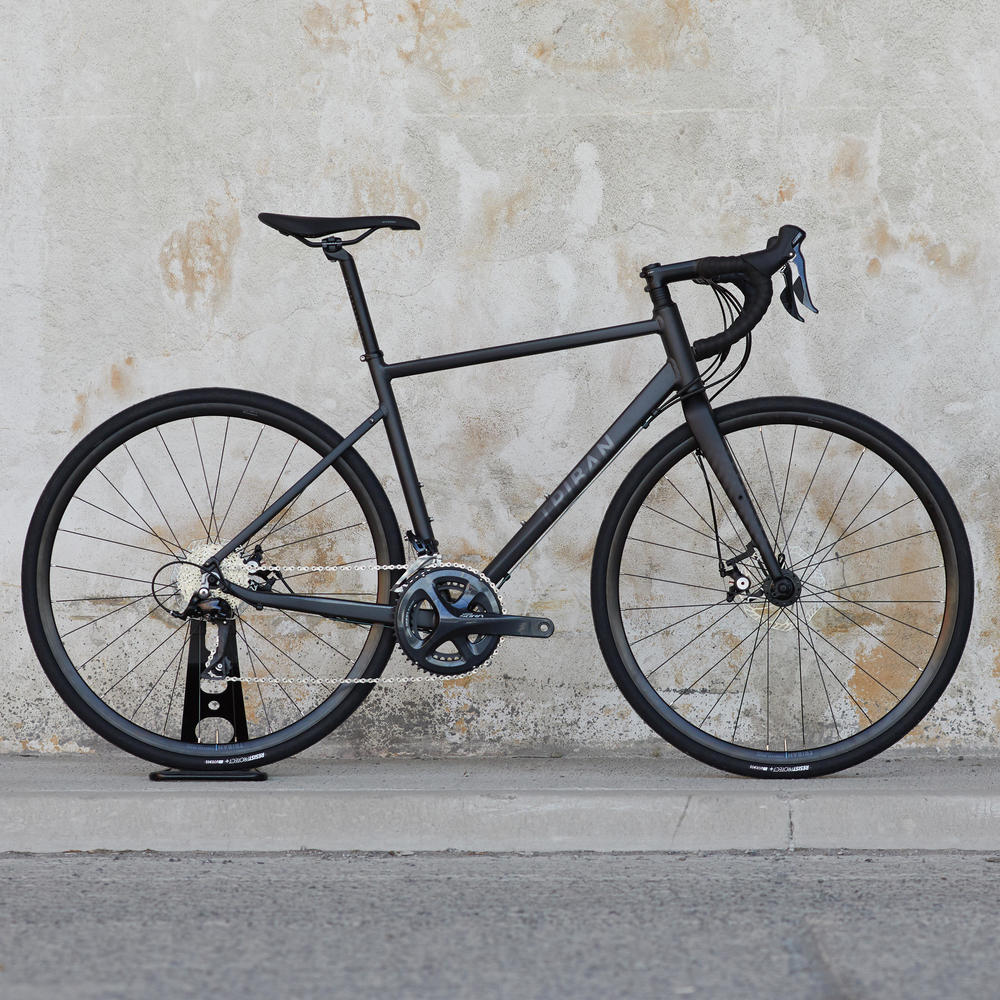RoadBike: (8, 168, 948, 991)
